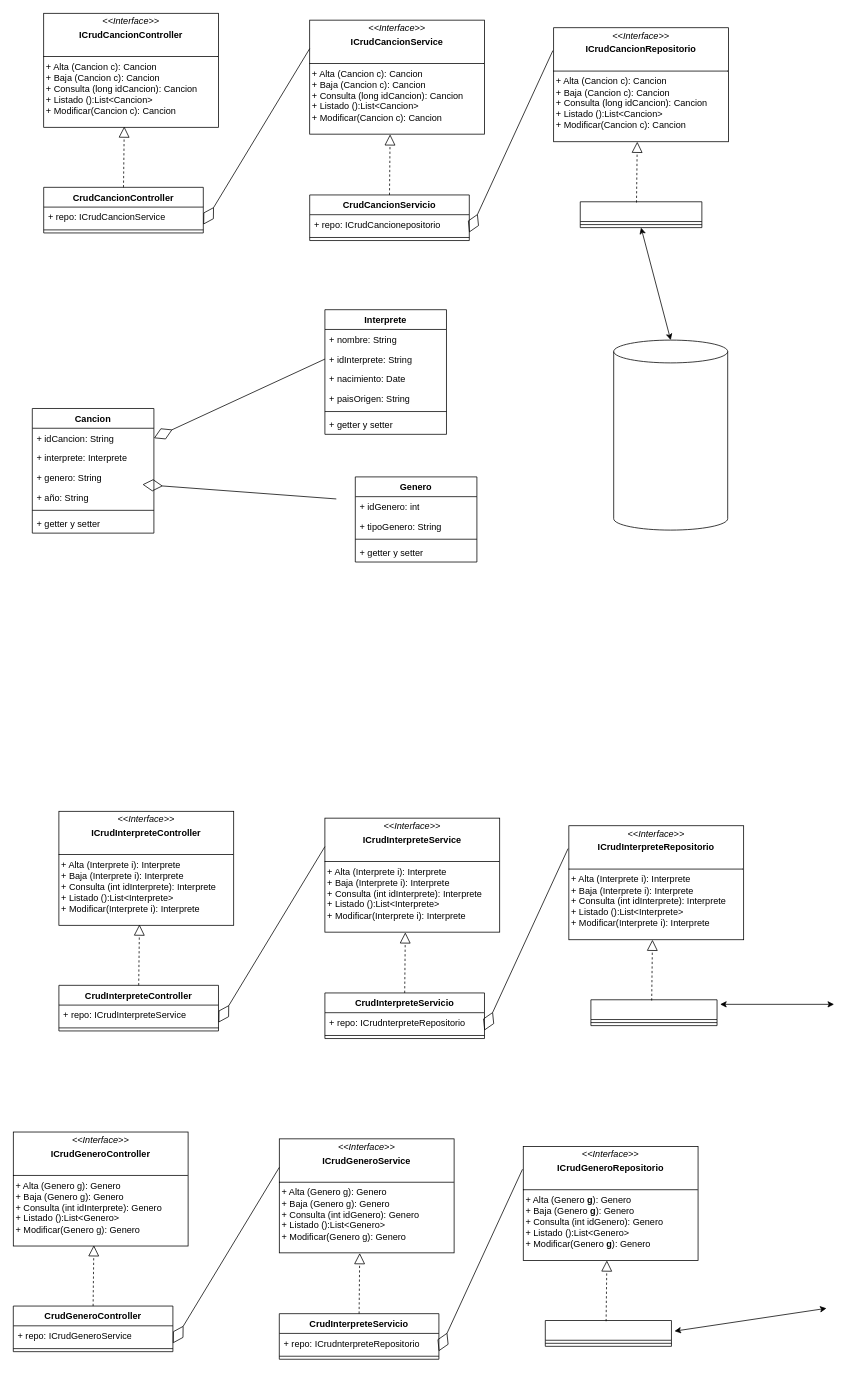
This 854x1385 diagram has some shape labels left out. Each missing label, with the centre of its shape:
"CancionRepositorio" goes at pixel 641 214.
"Genero Repositorio" goes at pixel 608 1333.
"Interprete Repositorio" goes at pixel 653 1012.
